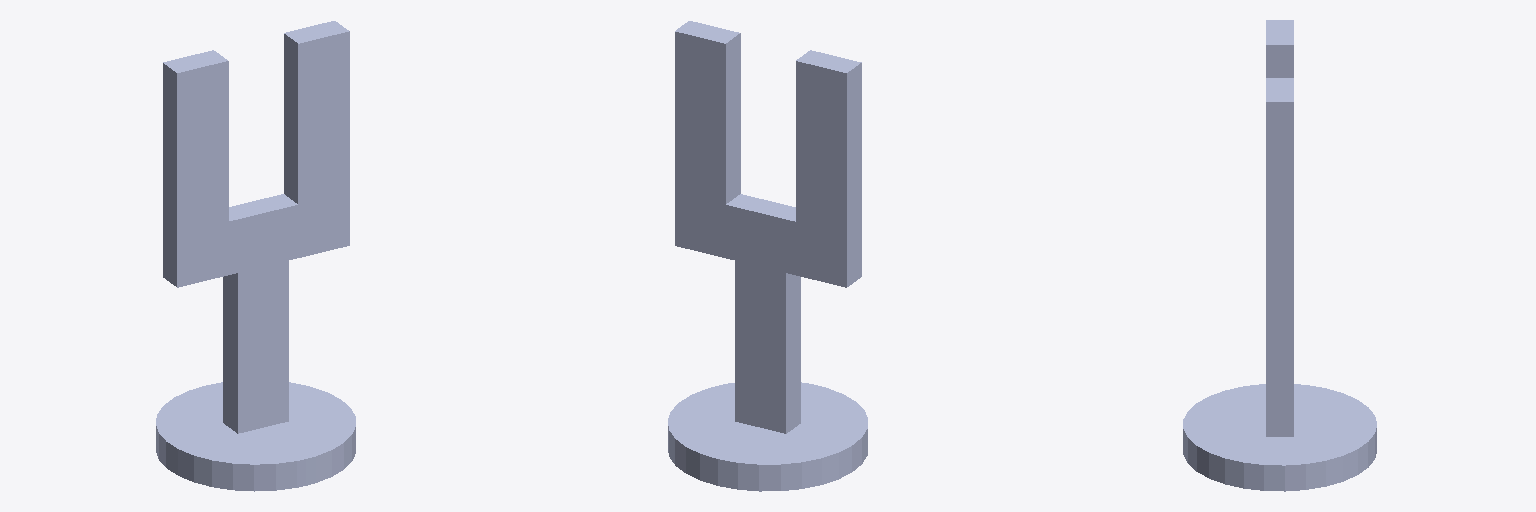
The robot description file, URDF, robot "medium_jig_urdf":
<?xml version="1.0"?>
<!-- This URDF was automatically created by SolidWorks to URDF Exporter! Originally created by Stephen Brawner (brawner@gmail.com) 
     Commit Version: v1.6.1-dev1-4-g75b5c6a  Build Version: 1.6.9609.37988
     For more information, please see http://wiki.ros.org/sw_urdf_exporter -->
<robot
  name="medium_jig_urdf">
  <link
    name="medium_jig_link">
    <inertial>
      <origin
        xyz="0 2.71050543121376E-18 0.0299026011061651"
        rpy="0 0 0" />
      <mass
        value="0.1" />
      <inertia
        ixx="5.650833333e-05"
        ixy="0"
        ixz="0"
        iyy="5.648010005e-05"
        iyz="0"
        izz="1.923843338e-05" />
    </inertial>
    <visual>
      <origin
        xyz="0 0 0"
        rpy="0 0 0" />
      <geometry>
        <mesh
          filename="package://medium_jig_urdf/meshes/medium_jig_link.STL" />
      </geometry>
      <material
        name="">
        <color
          rgba="0.792156862745098 0.819607843137255 0.933333333333333 1" />
      </material>
    </visual>
    <collision>
      <origin
        xyz="0 0 0.0375"
        rpy="0 0 0" />
      <geometry>
        <box
          size="0.03395014 0.006 0.075" />
      </geometry>
    </collision>
  </link>
</robot>

--- What the picture shows (computed from the rendered views, not written in the file) ---
3 views of the same robot in one strip: view 1: azimuth 30°, elevation 25°; view 2: azimuth 150°, elevation 25°; view 3: azimuth 270°, elevation 25° (orthographic).
Model medium_jig_urdf with 1 links and 0 joints (none), rooted at medium_jig_link, posed all joints at 0.
Visible links, largest first — view 1: medium_jig_link; view 2: medium_jig_link; view 3: medium_jig_link.
Boxes of the visible links, x1=… form: medium_jig_link: x1=156, y1=21, x2=355, y2=491; medium_jig_link: x1=668, y1=21, x2=867, y2=491; medium_jig_link: x1=1183, y1=20, x2=1376, y2=491.
Bounding box of the posed robot: 0.034 × 0.034 × 0.075 m (x, y, z).
1 mesh visuals loaded from 1 distinct referenced files (1 binary STL).
